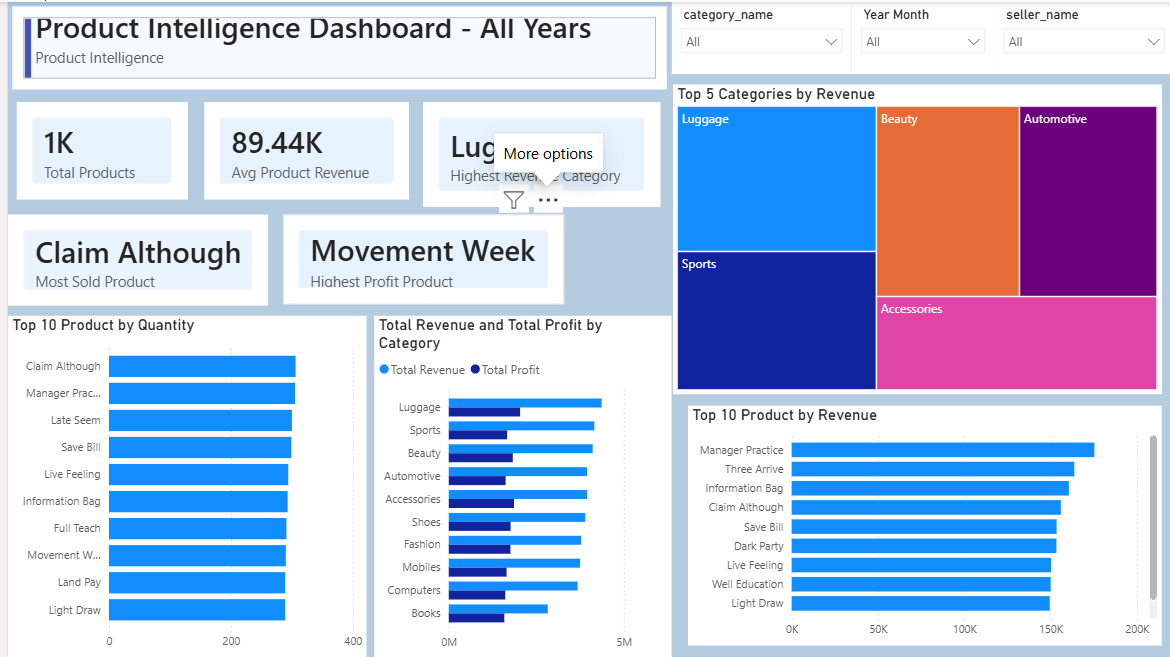

The page's visual inventory and layout, read from the dashboard file:
{"tool":"powerbi","page":{"name":"Page 2","canvas":[1280,720],"ordinal":1},"visuals":[{"type":"cardVisual","fields":{"Data":["products.Total Products"]},"box":[9.6,109.8,188,107],"z":0},{"type":"cardVisual","fields":{"Data":["products.Avg Product Revenue"]},"box":[215.4,109.8,225,107],"z":1000},{"type":"cardVisual","fields":{"Data":["order_items.Most Sold Product"]},"box":[0,233.3,285.4,100.2],"z":2000},{"type":"cardVisual","fields":{"Data":["order_items.Highest Revenue Category"]},"box":[455.6,109.8,260.7,115.3],"z":3000},{"type":"cardVisual","fields":{"Data":["order_items.Highest Profit Product"]},"box":[301.9,233.3,308.7,98.8],"z":4000},{"type":"barChart","title":"Top 10 Product by Revenue","fields":{"Y":["order_items.Total Revenue"],"Category":["products.product_name"]},"box":[746.5,443.2,520.1,263.5],"z":5000},{"type":"barChart","title":"Top 10 Product by Quantity","fields":{"Y":["order_items.Total Quantity Sold"],"Category":["products.product_name"]},"box":[0,344.4,393.8,376],"z":6000},{"type":"treemap","title":"Top 5 Categories by Revenue","fields":{"Group":["categories.category_name"],"Values":["order_items.Total Revenue"]},"box":[730,90.6,536.5,340.3],"z":7000},{"type":"clusteredBarChart","title":"Total Revenue and Total Profit by Category ","fields":{"Category":["categories.category_name"],"Y":["order_items.Total Revenue","order_items.Total Profit"]},"box":[402.1,344.4,326.6,376],"z":8000},{"type":"slicer","fields":{"Values":["categories.category_name"]},"box":[728.6,0,197.6,79.6],"z":9000},{"type":"slicer","fields":{"Values":["Date_Table.Year Month"]},"box":[926.2,0,156.4,79.6],"z":10000},{"type":"slicer","fields":{"Values":["sellers.seller_name"]},"box":[1082.7,0,197.6,79.6],"z":11000},{"type":"cardVisual","fields":{"Data":["Date_Table.Product Intelligence"]},"box":[0,0,728.6,101.5],"z":12000}]}

Visuals, with their boxes in screenshot pixels (x1, y1, x2, y2), scaled from the page's 1280x720 canvas onto the 1170x657 screenshot:
cardVisual - products.Total Products: crop(9, 100, 181, 198)
cardVisual - products.Avg Product Revenue: crop(197, 100, 403, 198)
cardVisual - order_items.Most Sold Product: crop(0, 213, 261, 304)
cardVisual - order_items.Highest Revenue Category: crop(416, 100, 655, 205)
cardVisual - order_items.Highest Profit Product: crop(276, 213, 558, 303)
"Top 10 Product by Revenue" barChart: crop(682, 404, 1158, 645)
"Top 10 Product by Quantity" barChart: crop(0, 314, 360, 656)
"Top 5 Categories by Revenue" treemap: crop(667, 83, 1158, 393)
"Total Revenue and Total Profit by Category " clusteredBarChart: crop(368, 314, 666, 656)
slicer - categories.category_name: crop(666, 0, 847, 73)
slicer - Date_Table.Year Month: crop(847, 0, 990, 73)
slicer - sellers.seller_name: crop(990, 0, 1169, 73)
cardVisual - Date_Table.Product Intelligence: crop(0, 0, 666, 93)
